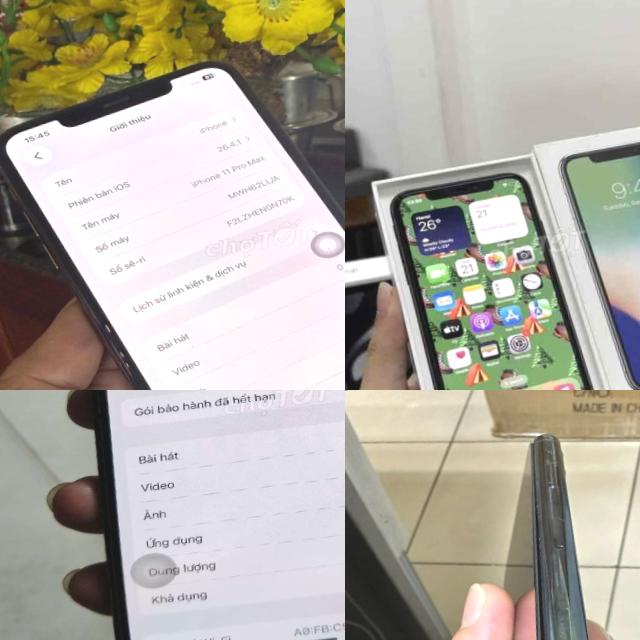scratch: (523, 434, 576, 481)
